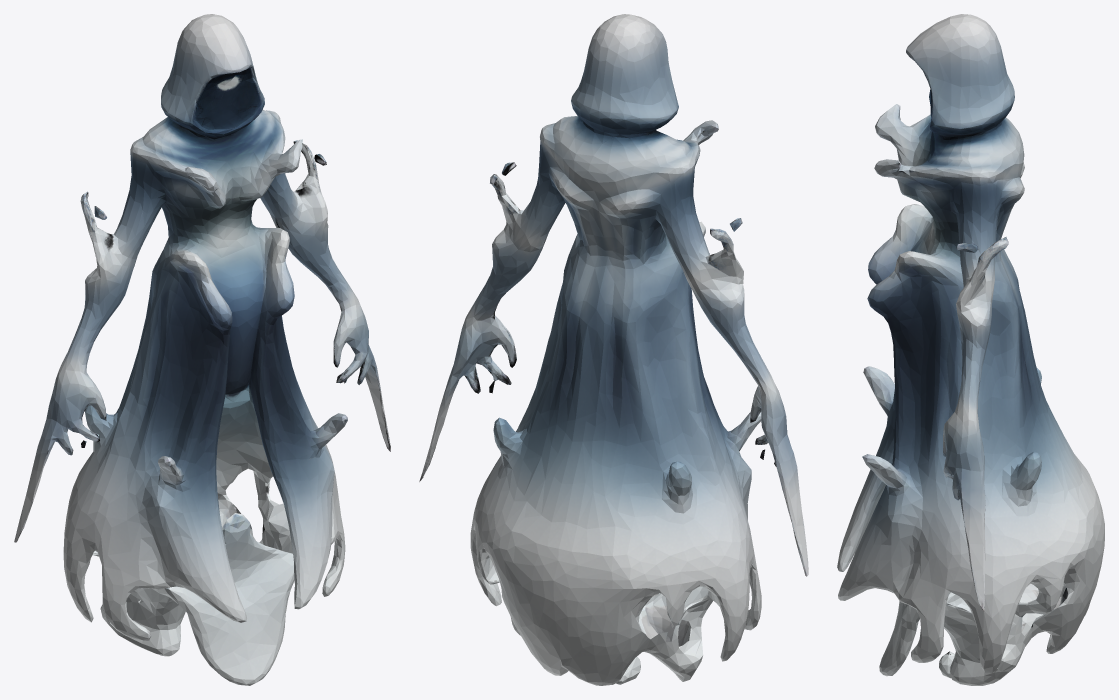
File: Unit-11.glb
3 views of the same model, side by side, from view 1: azimuth 30°, elevation 25°; view 2: azimuth 150°, elevation 25°; view 3: azimuth 270°, elevation 25° (orthographic). The views are drawn at different scales.
Parts seen in each view (by area): view 1: world; view 2: world; view 3: world.
Part boxes in pixels (left/top/right/bottom): world: left=14, top=14, right=390, bottom=685; world: left=419, top=14, right=808, bottom=685; world: left=837, top=14, right=1104, bottom=685.
Size of the model in its own units: 0.6112 by 1 by 0.3679.
Materials: 1 (1 with a texture image).
